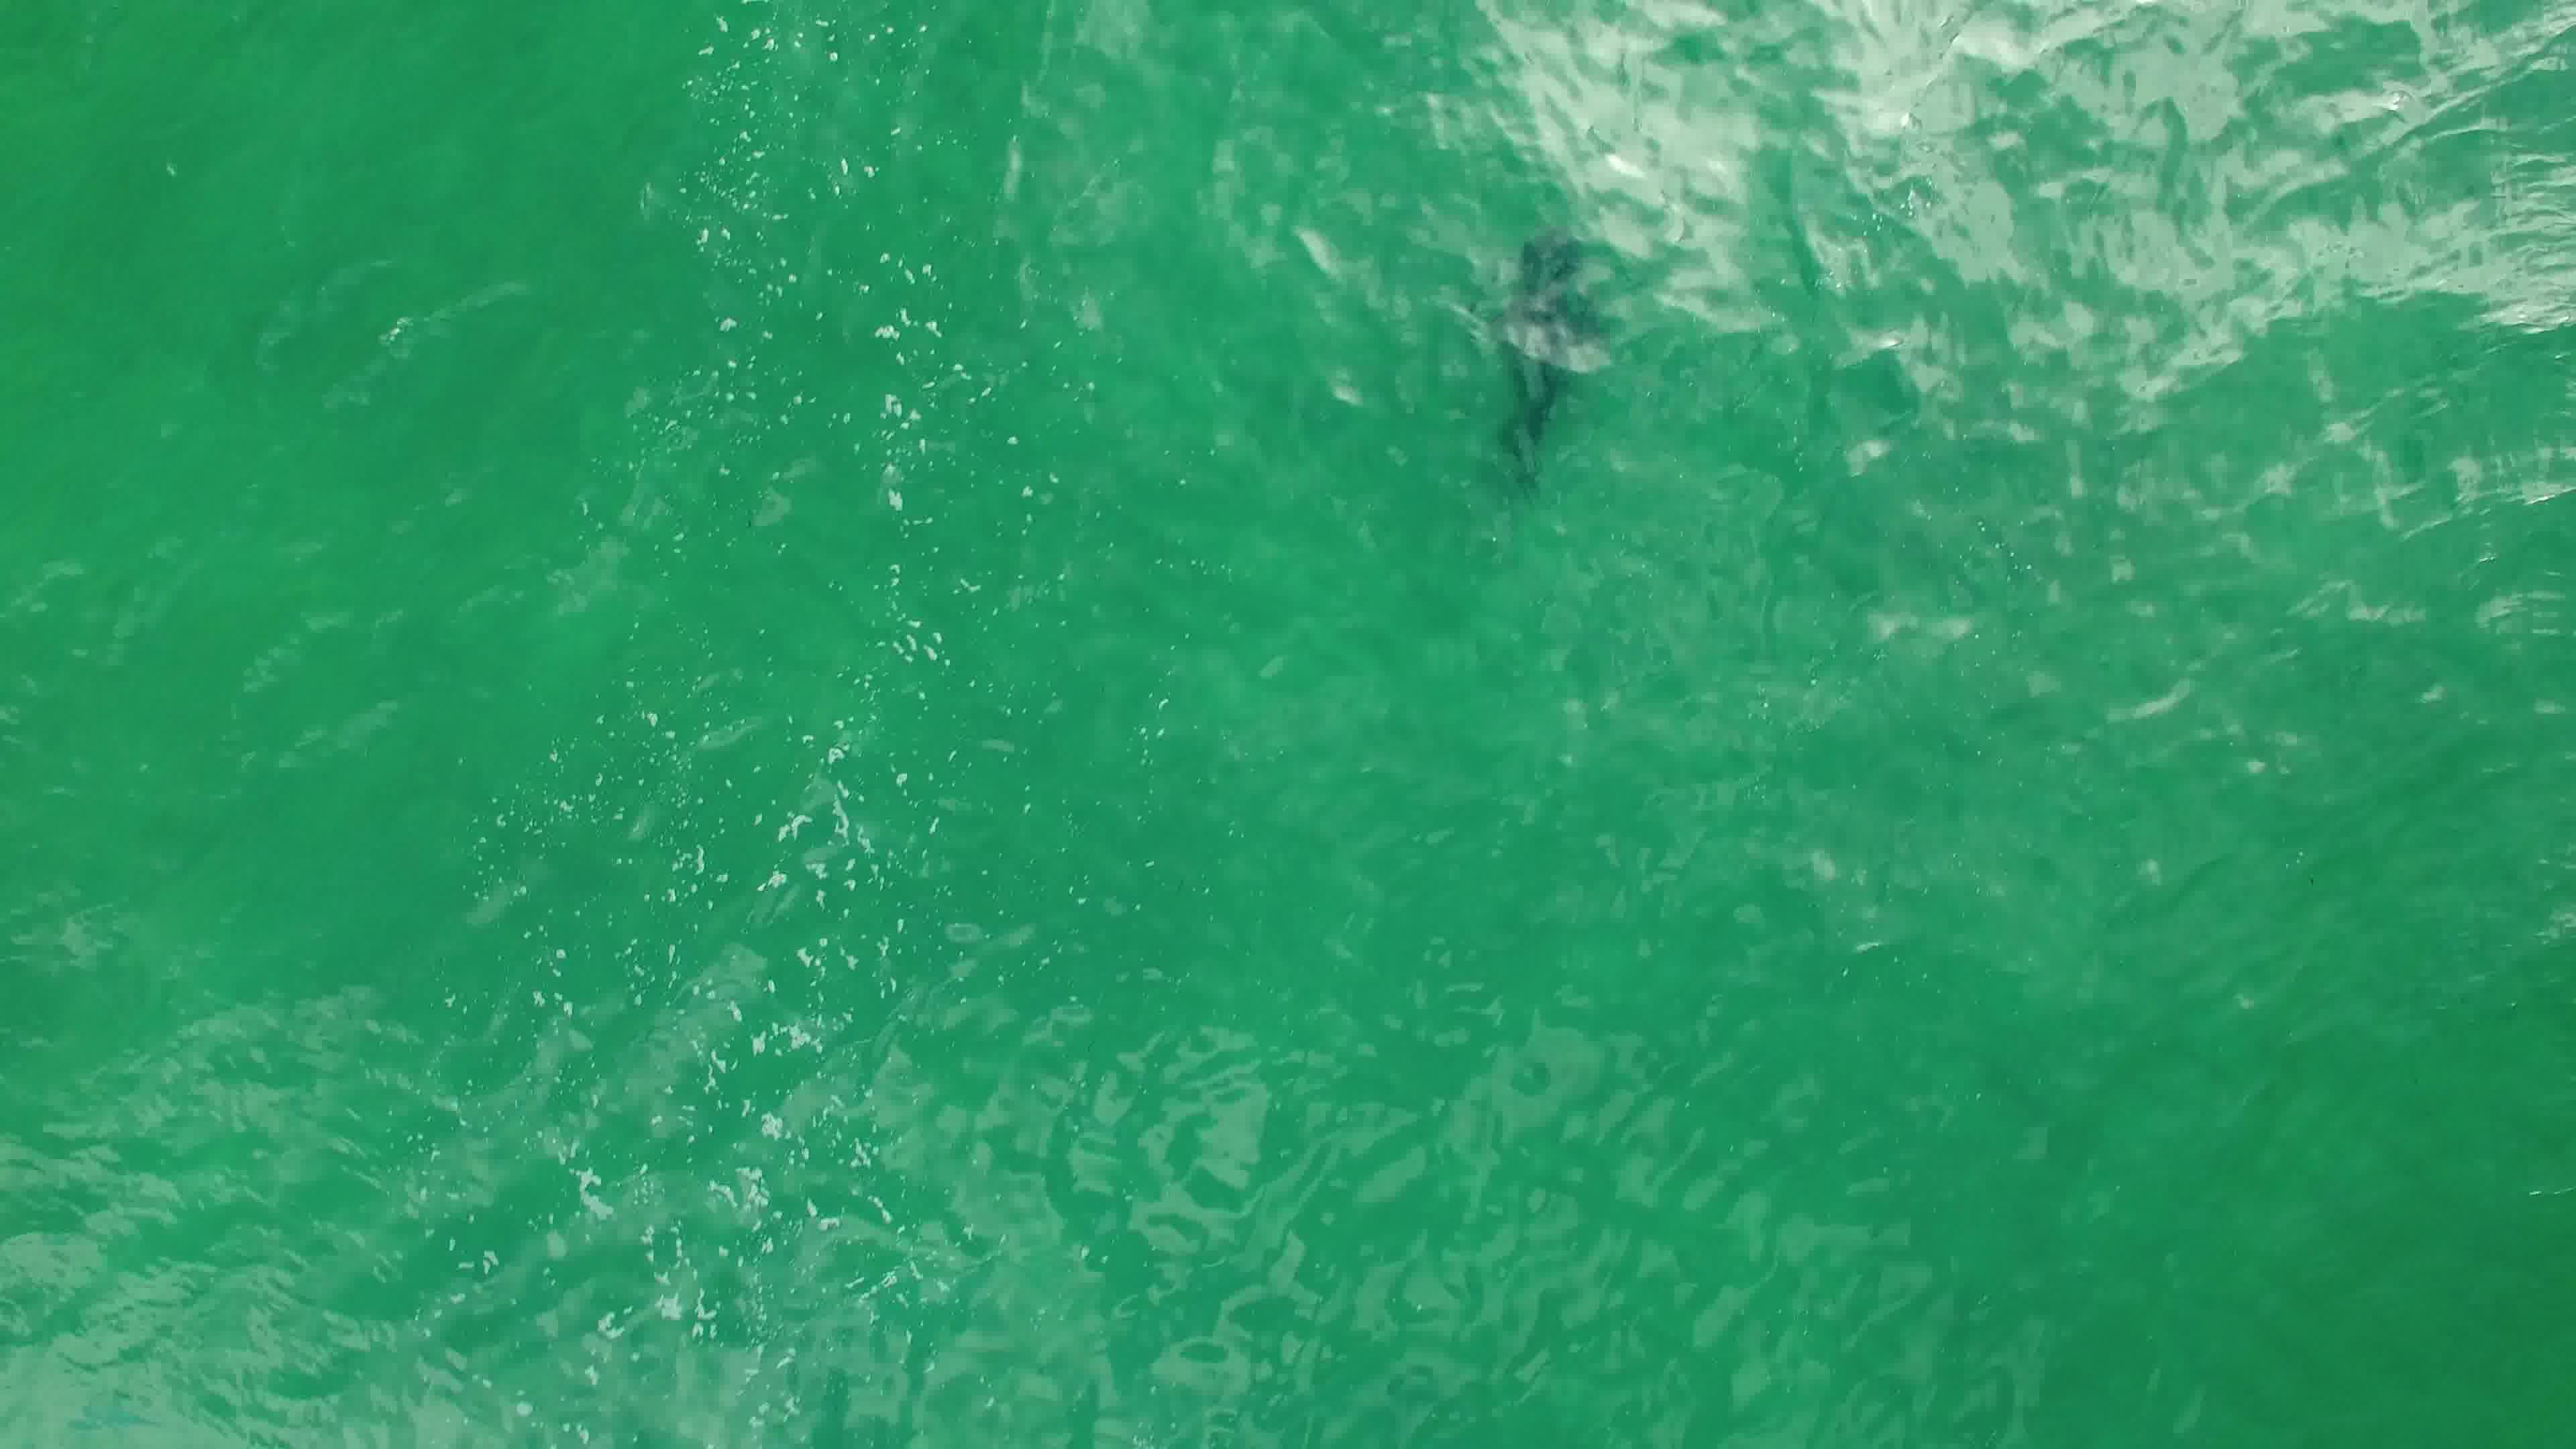shark: (1484, 230, 1603, 490)
